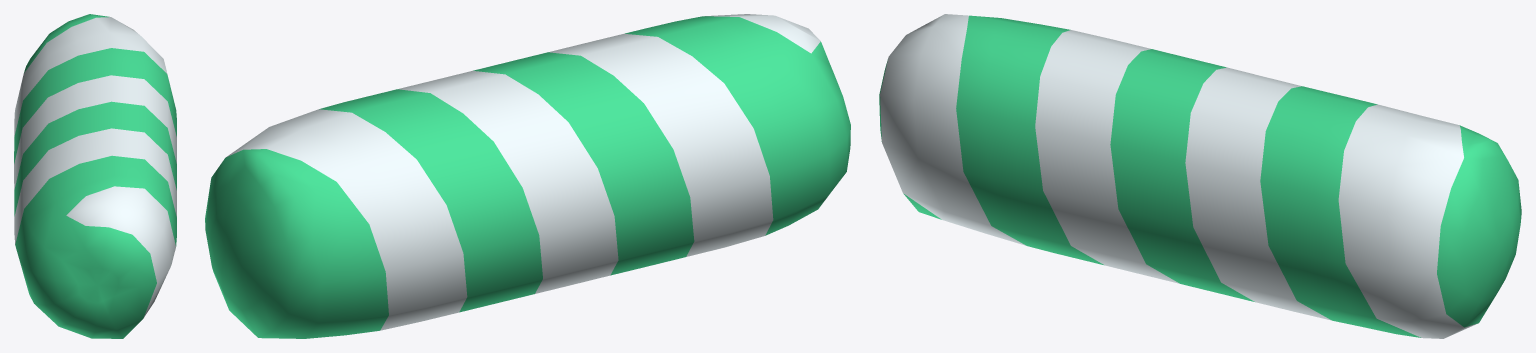
File: candy_assets29.fbx
3 views of the same model, side by side, from view 1: azimuth 30°, elevation 25°; view 2: azimuth 150°, elevation 25°; view 3: azimuth 270°, elevation 25° (orthographic). The views are drawn at different scales.
Parts seen in each view (by area): view 1: candy_assets29; view 2: candy_assets29; view 3: candy_assets29.
Boxes of the visible parts, x1,y1,x2,y2 form: candy_assets29: [14, 14, 176, 338]; candy_assets29: [205, 14, 850, 338]; candy_assets29: [879, 14, 1521, 338].
Size of the model in its own units: 533 by 253 by 737.
1 material, 1 textured.
